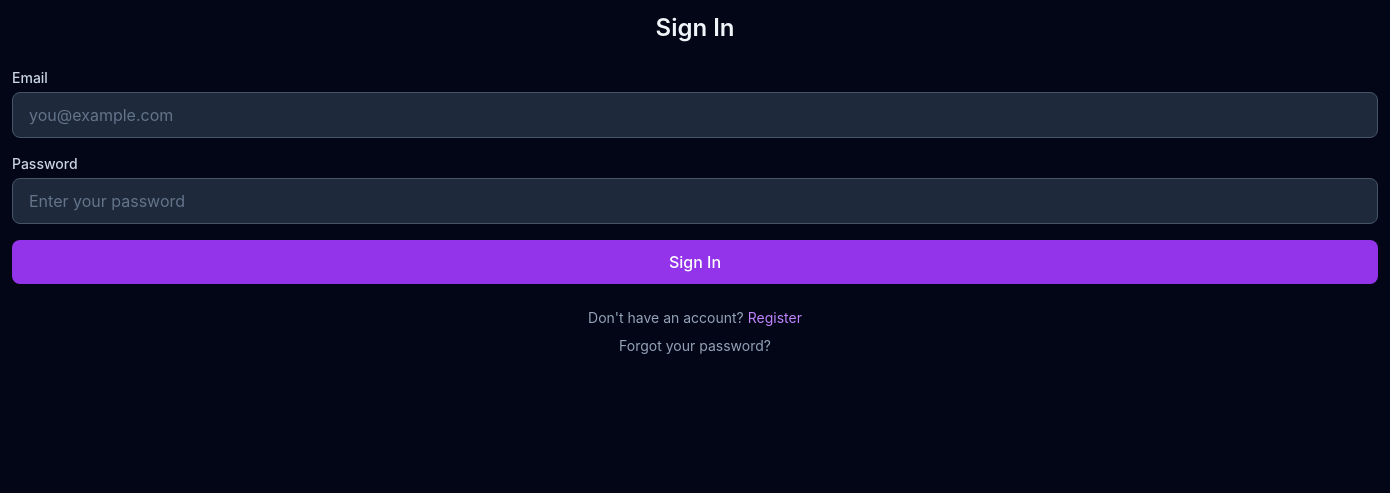
it: LoginPage › shows error on invalid credentials
The width and height of the screenshot is (1390, 493).
Step 1. Type "user@example.com" into the field labelled "Email" → (695, 115), box [12, 92, 1378, 138]
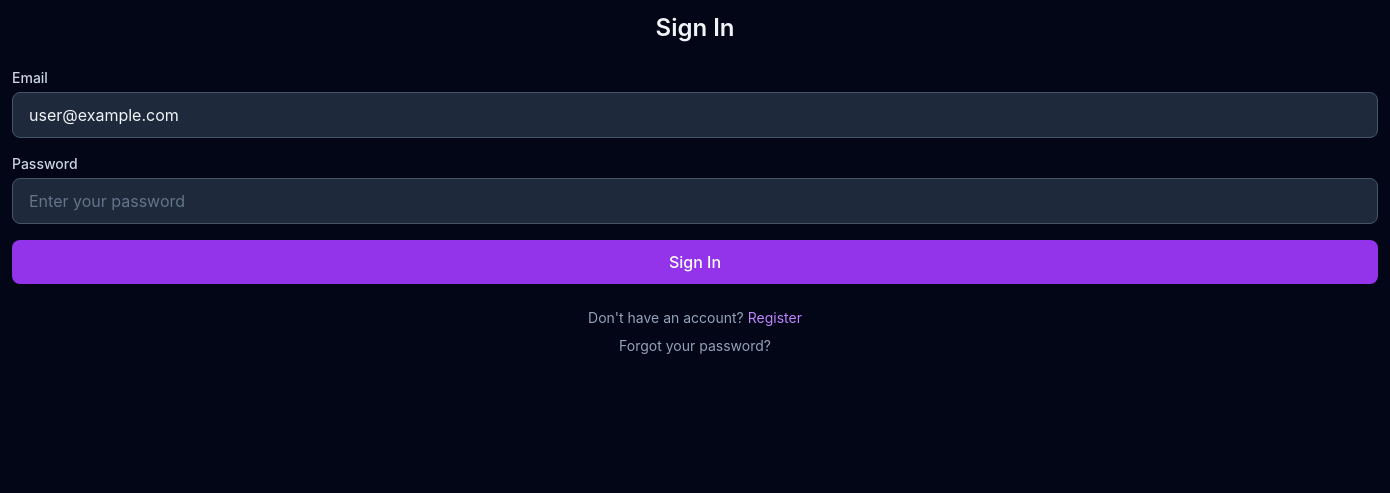
Step 2. Type "wrongpassword" into the password field labelled "Password" → (695, 201), box [12, 178, 1378, 224]
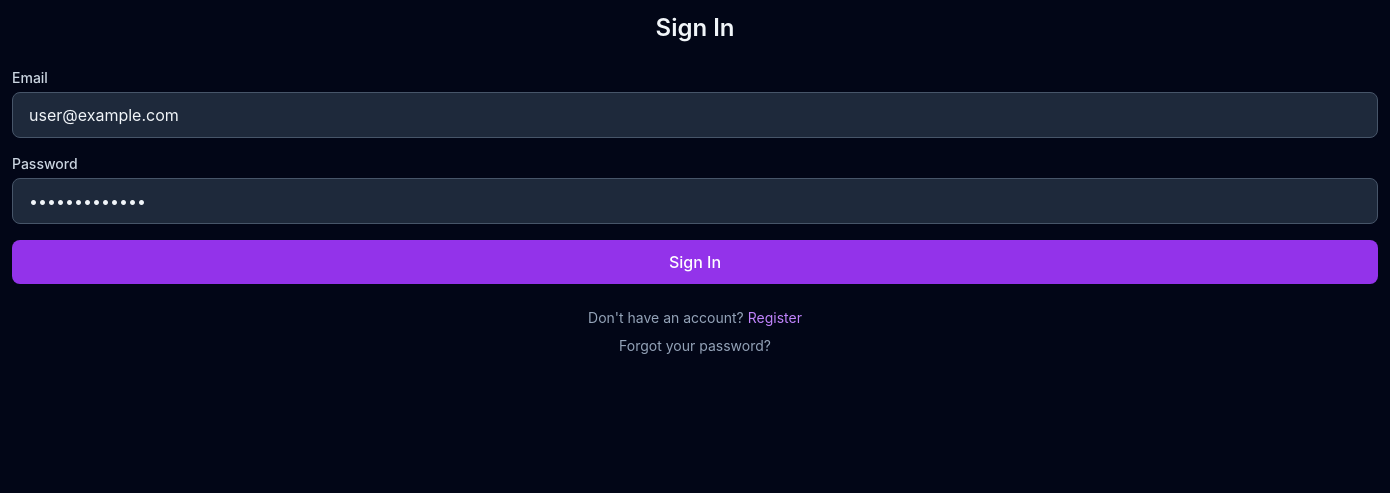
Step 3. Click the button "Sign In" → (695, 262), box [12, 240, 1378, 284]
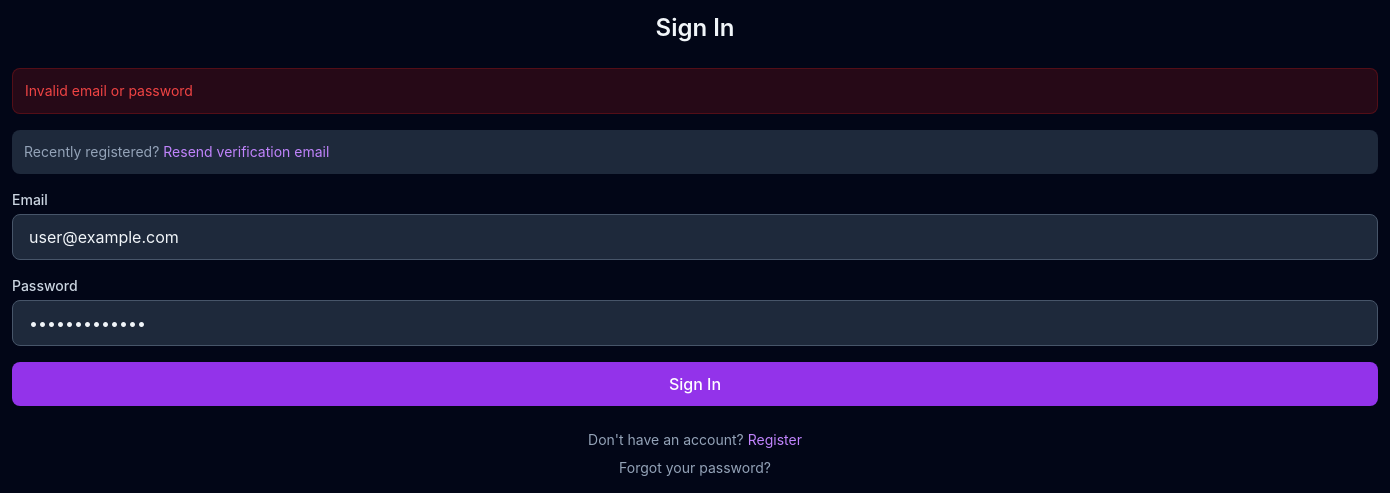
Check: the text "Invalid email or password" is shown, box [12, 68, 1378, 114]
